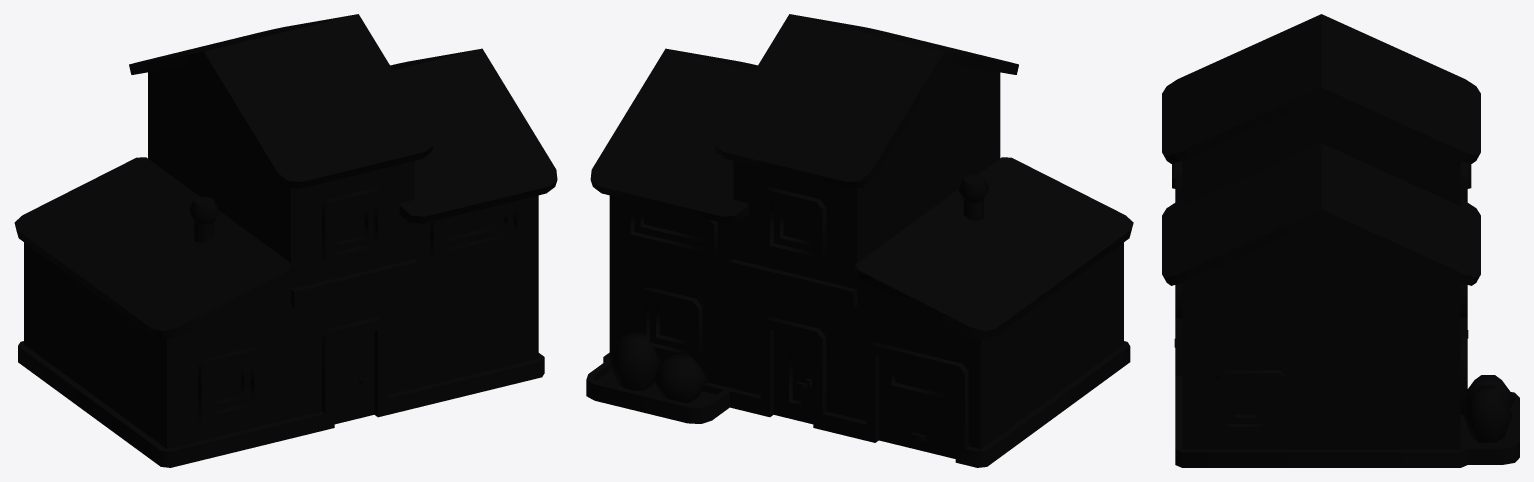
The model's file is building-type-c.glb.
3 renders of one model, left to right at view 1: azimuth 30°, elevation 25°; view 2: azimuth 150°, elevation 25°; view 3: azimuth 270°, elevation 25°, orthographic. The views are drawn at different scales.
Visible parts, largest first — view 1: building-type-c; view 2: building-type-c; view 3: building-type-c.
Boxes of the visible parts, left/top/right/bottom form: building-type-c: left=14, top=14, right=557, bottom=467; building-type-c: left=586, top=14, right=1133, bottom=467; building-type-c: left=1162, top=14, right=1519, bottom=467.
Bounding box in the file's own units: 1.29 × 1.03 × 1.03.
1 material, 1 textured.
